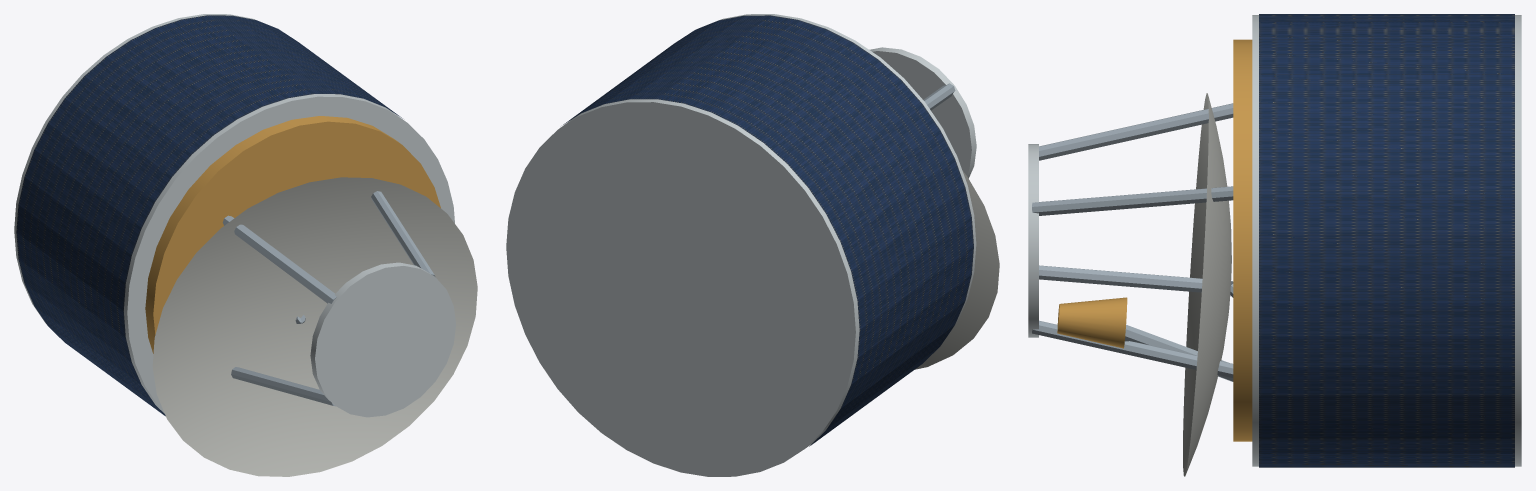
Rendered from ref-hs-333-6278.glb.
3 renders of one model, left to right at view 1: azimuth 30°, elevation 25°; view 2: azimuth 150°, elevation 25°; view 3: azimuth 270°, elevation 25°, orthographic. The views are drawn at different scales.
Parts seen in each view (by area): view 1: Deck-mounted reflector, Body-mounted solar cells, Despun equipment deck, Antenna tower platform, Solar drum core, Antenna tower leg (×3); view 2: Solar drum core, Body-mounted solar cells, Deck-mounted reflector, Antenna tower platform; view 3: Body-mounted solar cells, Deck-mounted reflector, Antenna tower leg (×4), Despun equipment deck, Solar drum core, Feed horn, Antenna tower platform, Offset feed boom.
Boxes of the visible parts, bbox=[...] form: Deck-mounted reflector: bbox=[152, 177, 477, 476]; Body-mounted solar cells: bbox=[16, 15, 402, 416]; Despun equipment deck: bbox=[145, 116, 440, 353]; Antenna tower platform: bbox=[310, 262, 455, 417]; Solar drum core: bbox=[14, 14, 454, 413]; Antenna tower leg (×3): bbox=[222, 191, 435, 406]; Solar drum core: bbox=[506, 14, 976, 476]; Body-mounted solar cells: bbox=[563, 15, 973, 446]; Deck-mounted reflector: bbox=[915, 171, 999, 369]; Antenna tower platform: bbox=[869, 47, 976, 178]; Body-mounted solar cells: bbox=[1259, 14, 1514, 467]; Deck-mounted reflector: bbox=[1183, 93, 1231, 476]; Antenna tower leg (×4): bbox=[1032, 103, 1233, 377]; Despun equipment deck: bbox=[1233, 39, 1252, 441]; Solar drum core: bbox=[1252, 15, 1521, 466]; Feed horn: bbox=[1057, 297, 1127, 348]; Antenna tower platform: bbox=[1028, 144, 1038, 337]; Offset feed boom: bbox=[1125, 324, 1233, 381].
Bounding box in the file's own units: 2.21 × 2.24 × 2.4.
5 materials, 1 textured.
